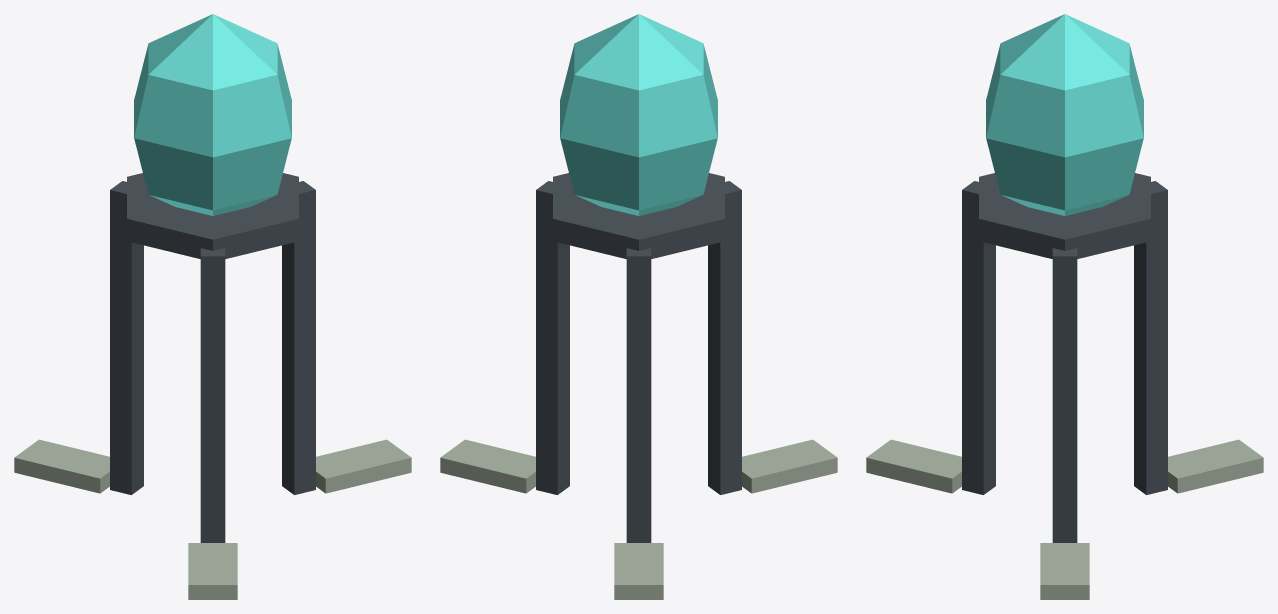
Rendered from SH_ShieldEmitter_01.glb.
The picture shows the model from 3 angles, left to right: view 1: azimuth 30°, elevation 25°; view 2: azimuth 150°, elevation 25°; view 3: azimuth 270°, elevation 25°; orthographic projection.
Visible parts, largest first — view 1: SH_ShieldEmitter_01; view 2: SH_ShieldEmitter_01; view 3: SH_ShieldEmitter_01.
Part boxes in pixels (<box>): SH_ShieldEmitter_01: <box>14,14,411,599</box>; SH_ShieldEmitter_01: <box>440,14,837,599</box>; SH_ShieldEmitter_01: <box>866,14,1263,599</box>.
Size of the model in its own units: 0.416 by 0.66 by 0.4803.
1 material, 1 textured.
